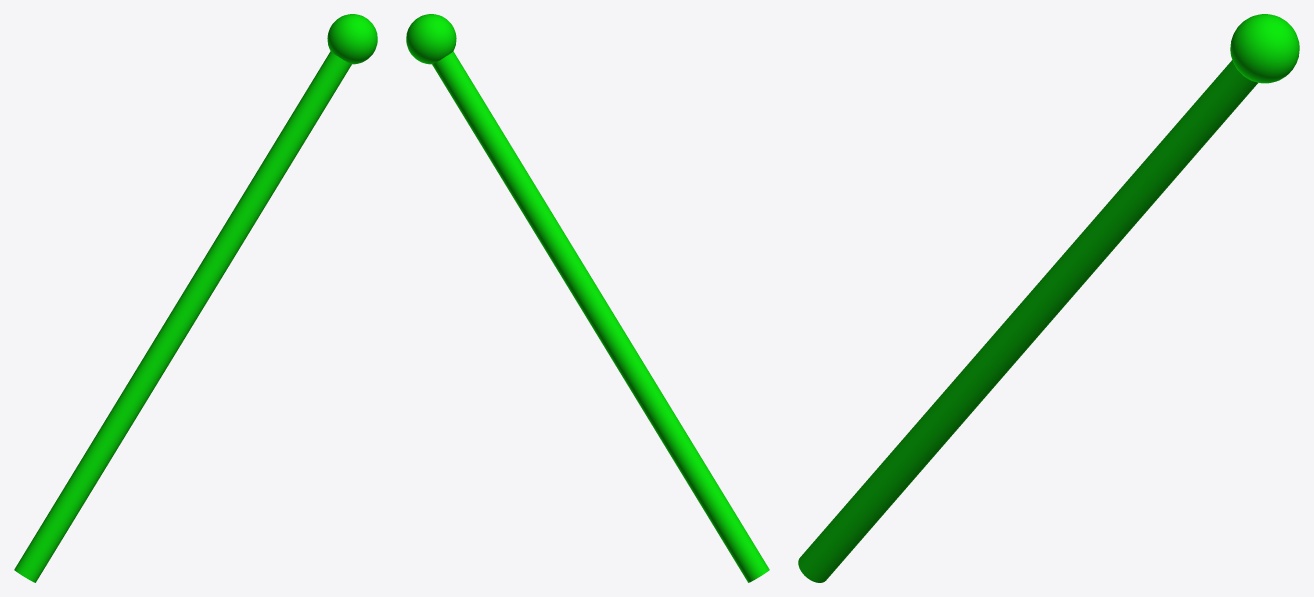
3 renders of one model, left to right at view 1: azimuth 30°, elevation 25°; view 2: azimuth 150°, elevation 25°; view 3: azimuth 330°, elevation 25°, orthographic. The views are drawn at different scales.
Parts seen in each view (by area): view 1: mesh, B; view 2: mesh, B; view 3: mesh, B.
Part boxes in pixels (bbox=[...]): mesh: bbox=[14, 51, 351, 582]; B: bbox=[327, 14, 377, 64]; mesh: bbox=[432, 51, 769, 582]; B: bbox=[406, 14, 456, 64]; mesh: bbox=[798, 60, 1257, 582]; B: bbox=[1230, 14, 1299, 83].
Size of the model in its own units: 1.64 by 2.13 by 0.2.
